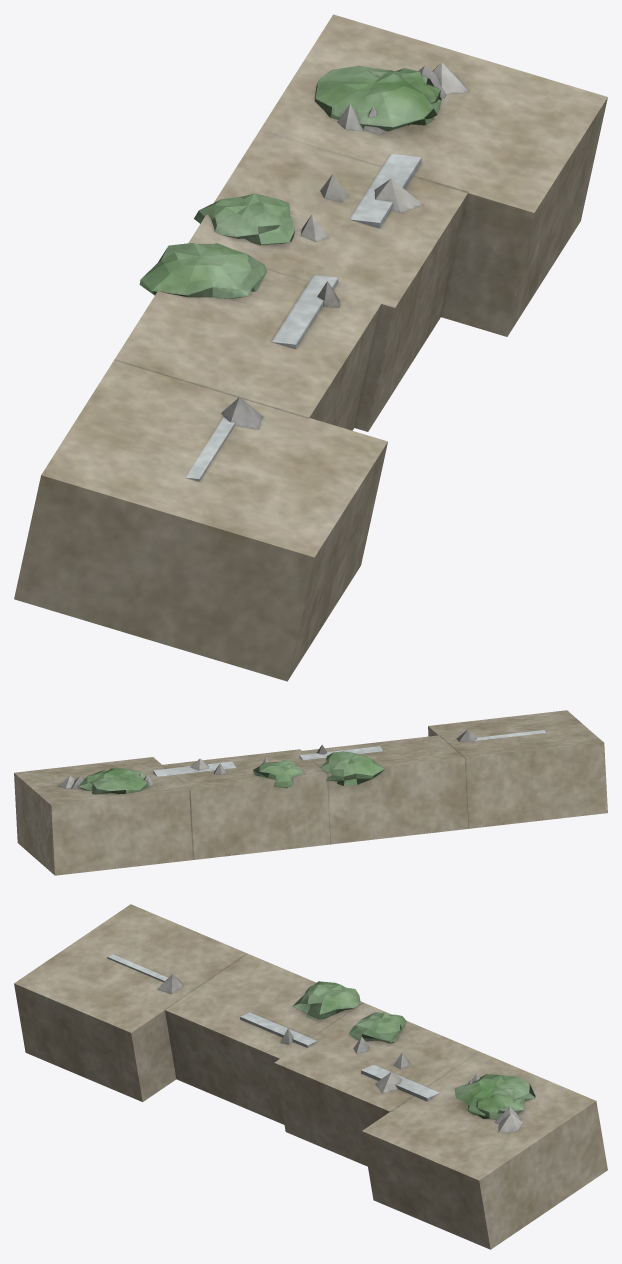
Rendered from river_bank_c.glb.
3 renders of one model, top to bottom at view 1: azimuth 30°, elevation 25°; view 2: azimuth 150°, elevation 25°; view 3: azimuth 270°, elevation 25°, orthographic. The views are drawn at different scales.
Parts seen in each view (by area): view 1: dilek; view 2: dilek; view 3: dilek.
Boxes of the visible parts, x1,y1,x2,y2 form: dilek: [14, 14, 607, 681]; dilek: [14, 710, 607, 875]; dilek: [14, 904, 607, 1249].
Size of the model in its own units: 1.57 by 0.3289 by 1.57.
1 material, 1 textured.
